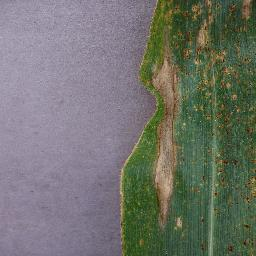Corn_Blight: (118, 0, 188, 236), (213, 0, 255, 242), (188, 0, 212, 199), (116, 237, 150, 255), (224, 243, 256, 256), (200, 240, 207, 256), (196, 214, 206, 225)
